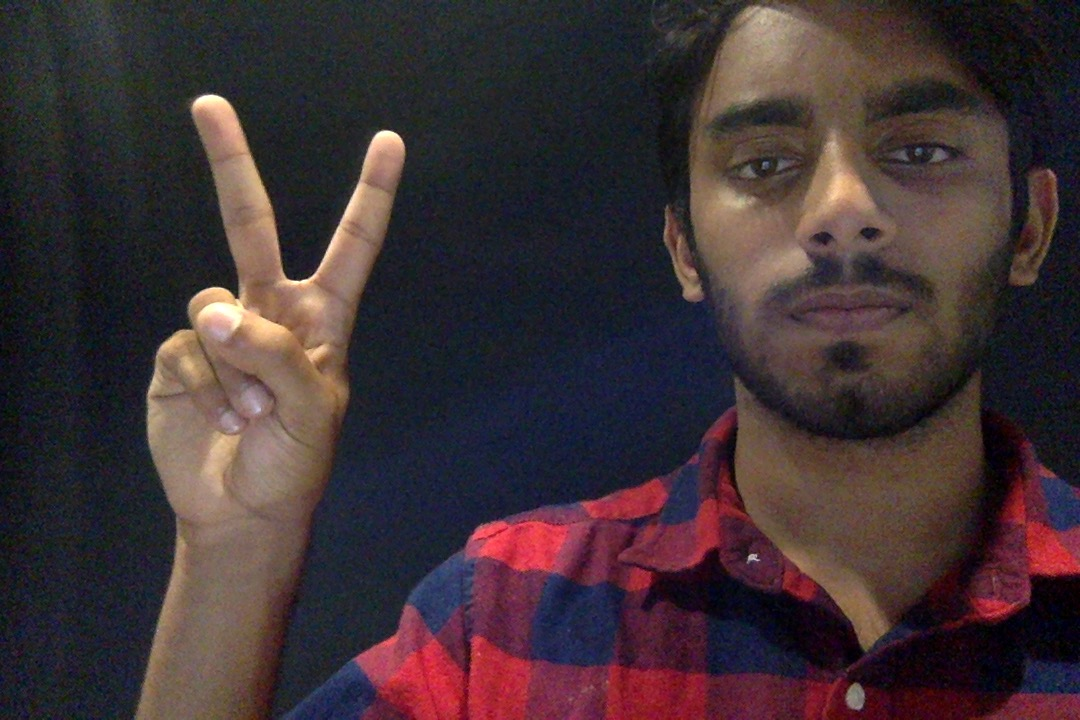v: (108, 69, 418, 593)
